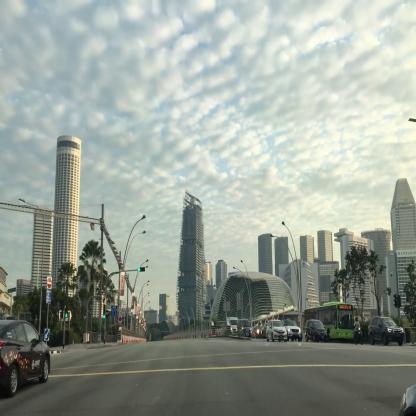green_traffic_light: (137, 266, 145, 272), (103, 304, 105, 318)
